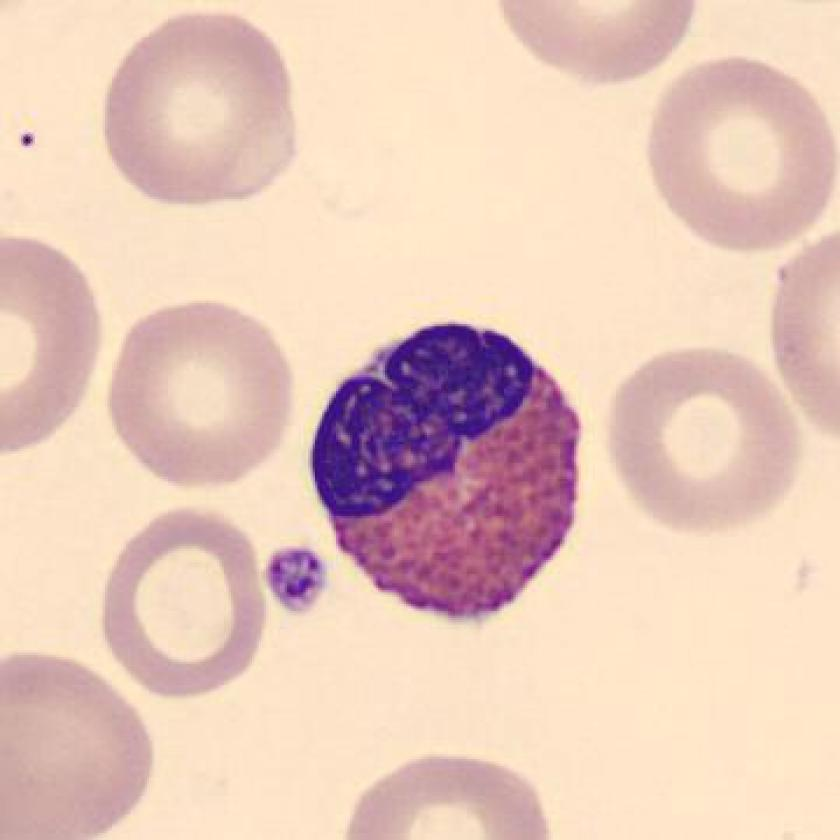eosinophil: (295, 306, 603, 642)
